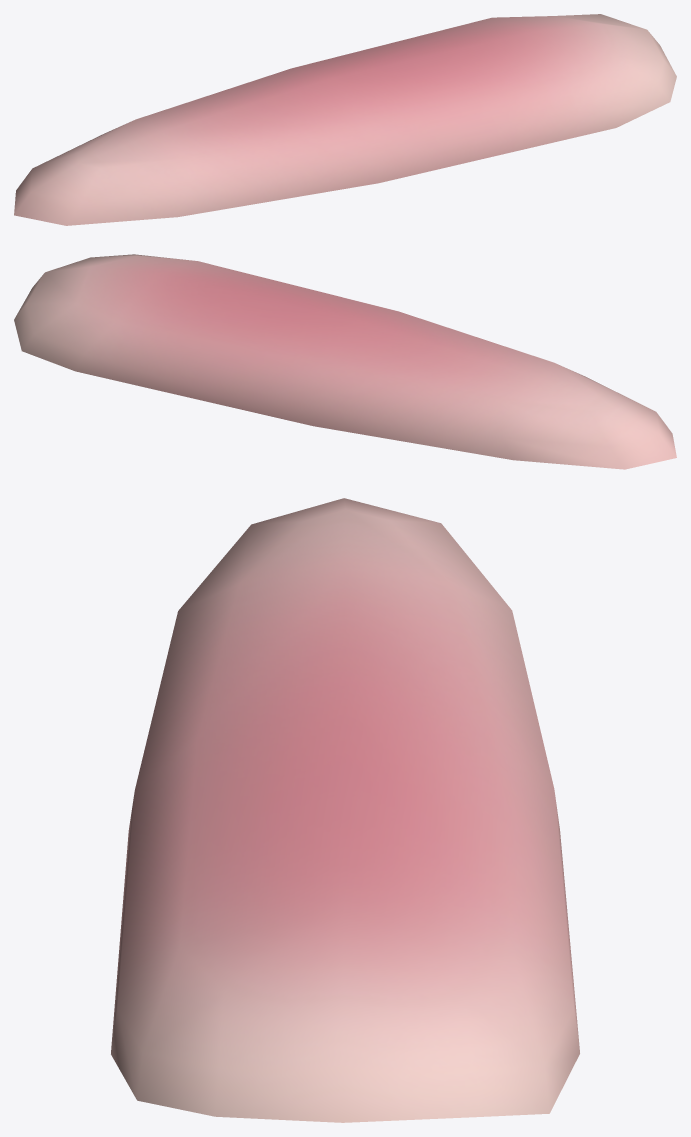
Rendered from Ring.fbx.
3 views of the same model, one above another, from view 1: azimuth 30°, elevation 25°; view 2: azimuth 150°, elevation 25°; view 3: azimuth 270°, elevation 25° (orthographic). The views are drawn at different scales.
Parts seen in each view (by area): view 1: Ring; view 2: Ring; view 3: Ring.
Part boxes in pixels (<box>): Ring: <box>14,14,676,225</box>; Ring: <box>14,254,676,469</box>; Ring: <box>111,498,579,1122</box>.
Bounding box in the file's own units: 0.0187 × 0.00175 × 0.00589.
